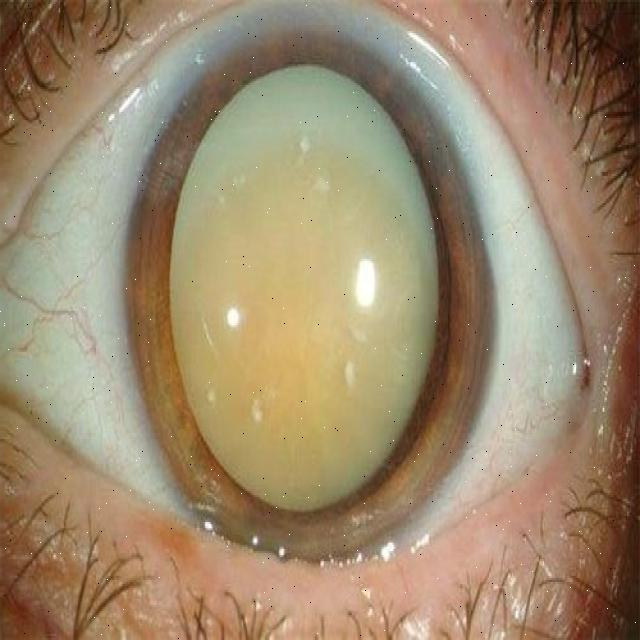Cataract: (128, 27, 502, 574)
